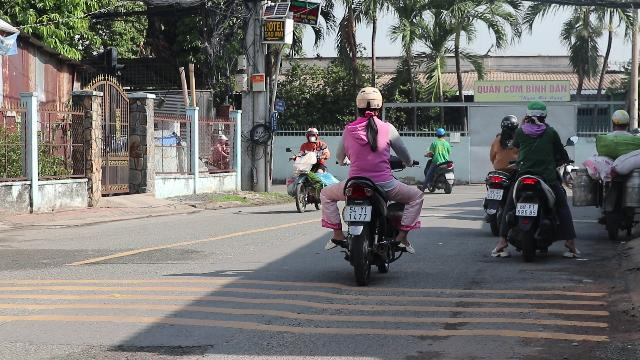helmet: (354, 86, 384, 116), (523, 100, 547, 124), (610, 109, 630, 129), (498, 114, 518, 132)
licenseplate: (345, 206, 371, 221), (516, 204, 538, 217), (486, 188, 502, 200)
motorcyclist: (318, 86, 424, 280), (506, 99, 576, 259), (594, 109, 640, 240), (479, 109, 519, 236)
